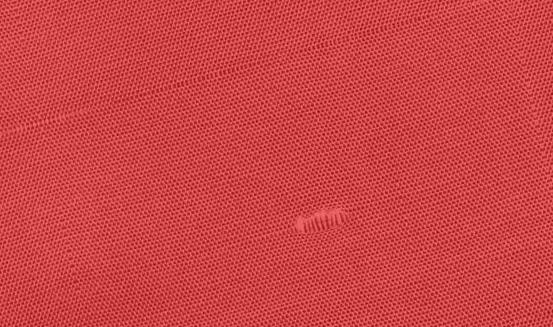slub: (284, 203, 359, 240)
